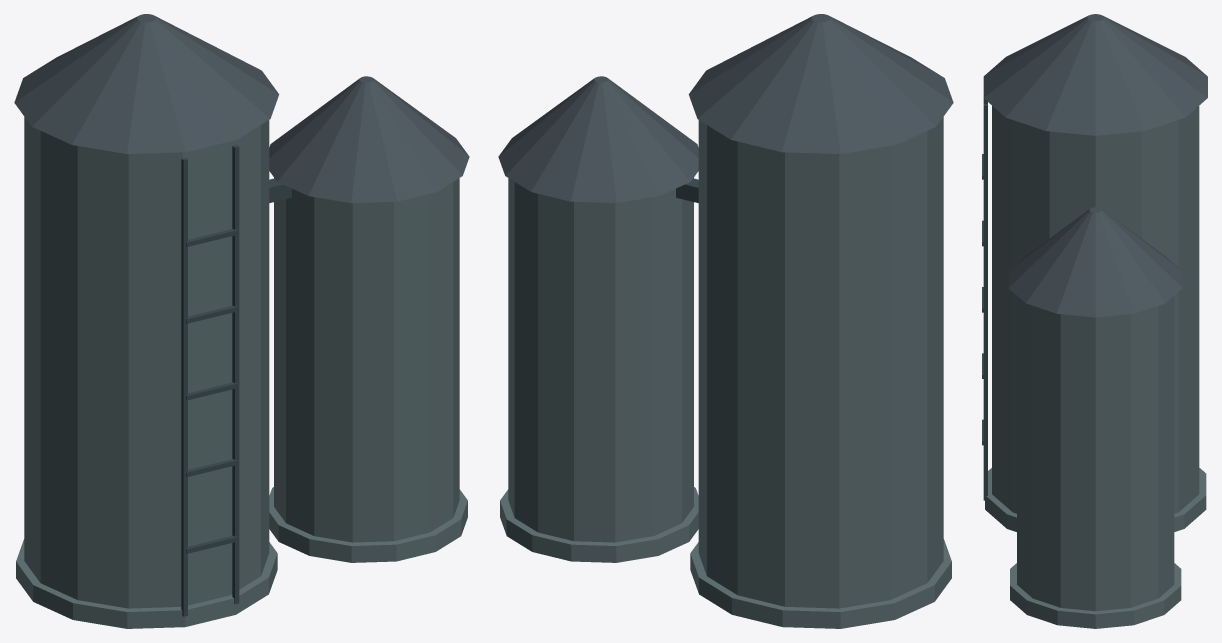
File: Building_Settlement_TwinGrainSilo_001_LOD1.glb
3 renders of one model, left to right at view 1: azimuth 30°, elevation 25°; view 2: azimuth 150°, elevation 25°; view 3: azimuth 270°, elevation 25°, orthographic. The views are drawn at different scales.
Visible parts, largest first — view 1: Building_Settlement_TwinGrainSilo_001_LOD1; view 2: Building_Settlement_TwinGrainSilo_001_LOD1; view 3: Building_Settlement_TwinGrainSilo_001_LOD1.
Part boxes in pixels (x1,y1,x2,y2): Building_Settlement_TwinGrainSilo_001_LOD1: [14, 14, 469, 628]; Building_Settlement_TwinGrainSilo_001_LOD1: [498, 14, 953, 628]; Building_Settlement_TwinGrainSilo_001_LOD1: [982, 14, 1207, 628].
Size of the model in its own units: 5.79 by 7.25 by 3.08.
